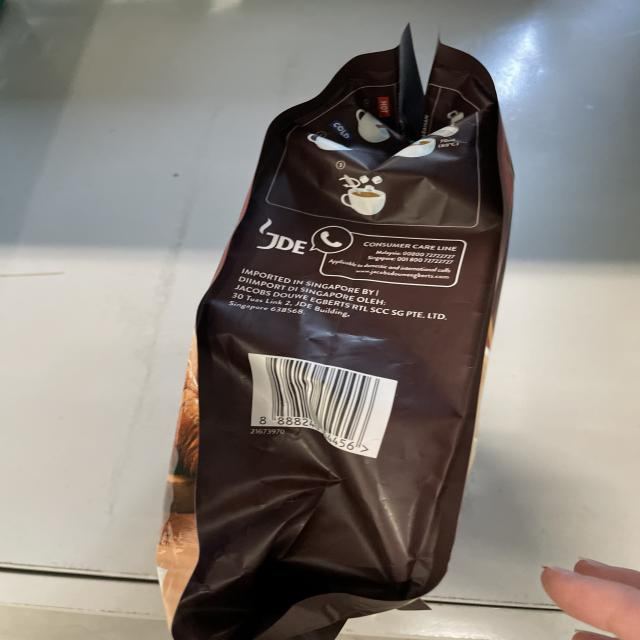object_name: (184, 51, 442, 619)
